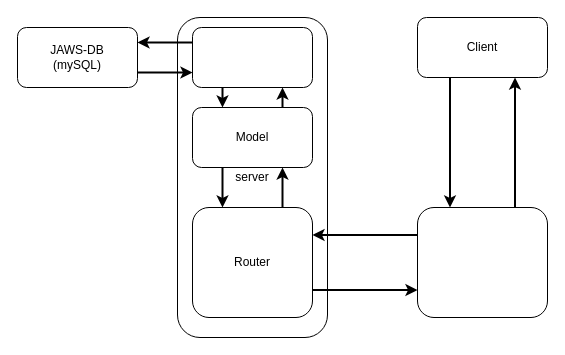
The diagram is 565 pixels wide and 355 high, and some of its shapes have lost their labels. Here are the shapes that lost their labels. From the top down, the centre of each, then its label:
the point at 252,57: Config
the point at 482,262: Views
